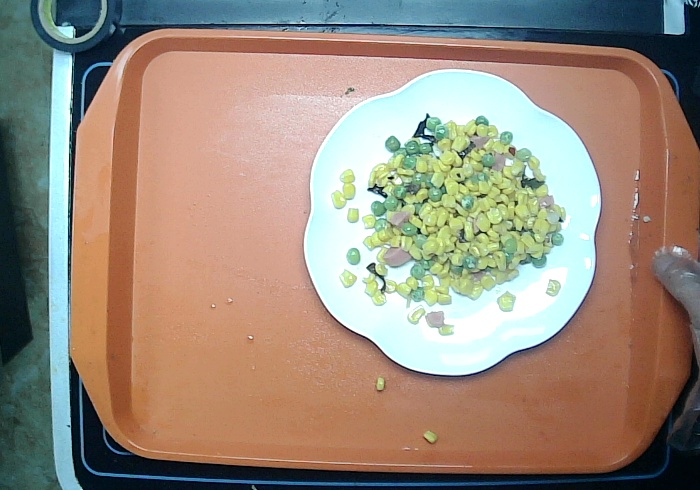HZYJPL-Bai_Se_Hua_Duo_Wan: (296, 61, 610, 390)
